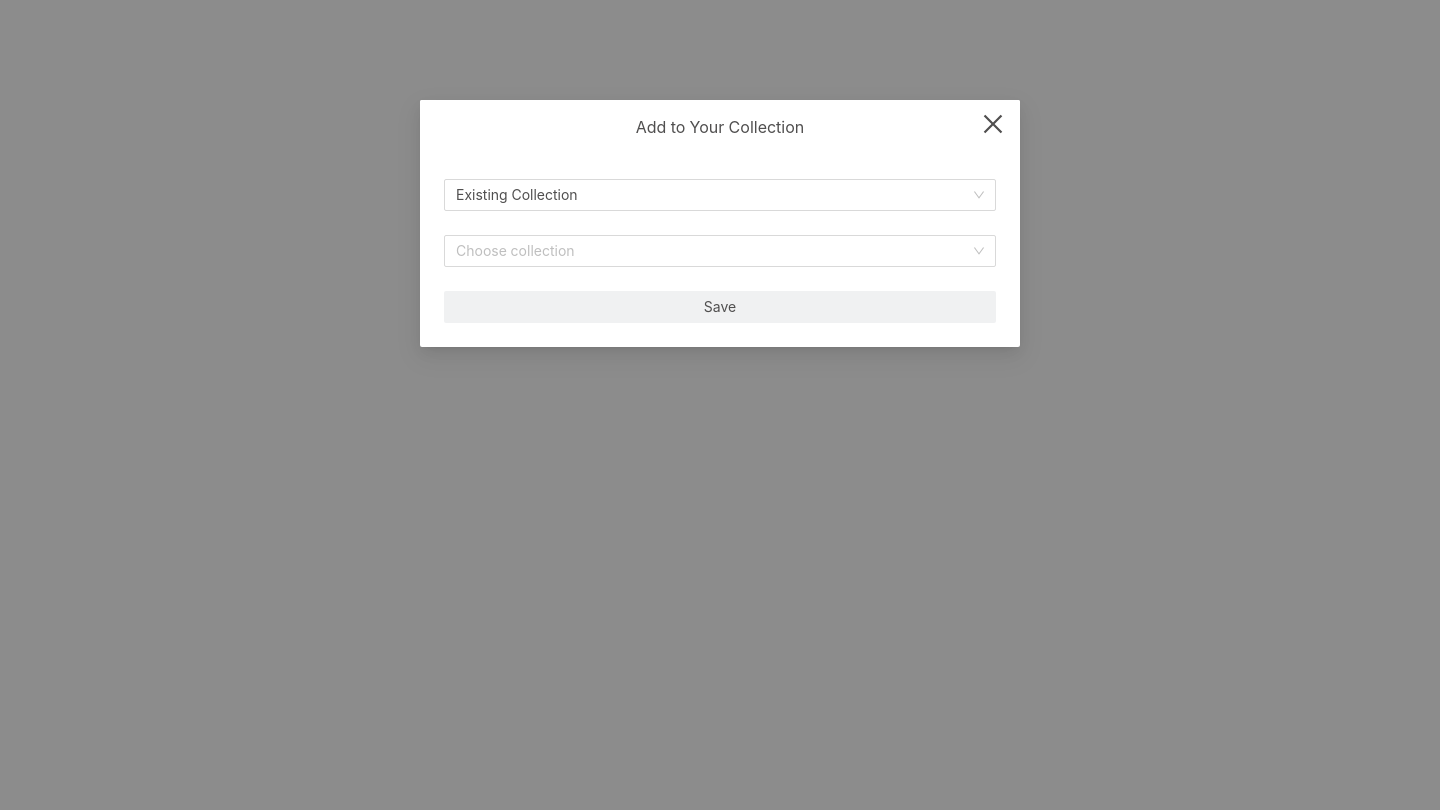
Scenario: ModalAddAnime › should be able to save after typing new collection
Press the mouse on the dropdown labelled "Existing Collection" at (720, 195), box [444, 179, 996, 211]
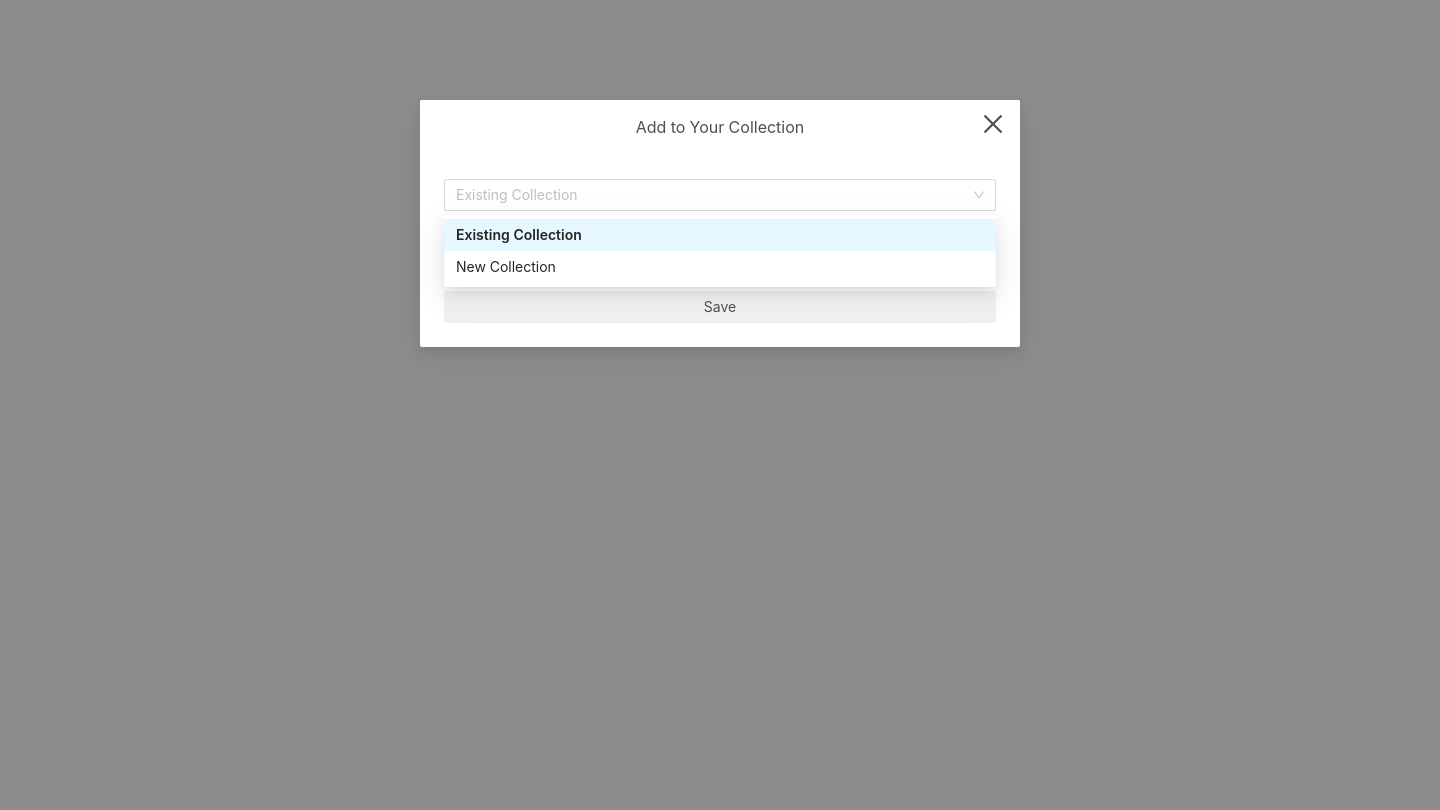
Check: the text "New Collection" is shown
Click the text "New Collection" at (506, 266), box [456, 258, 556, 275]
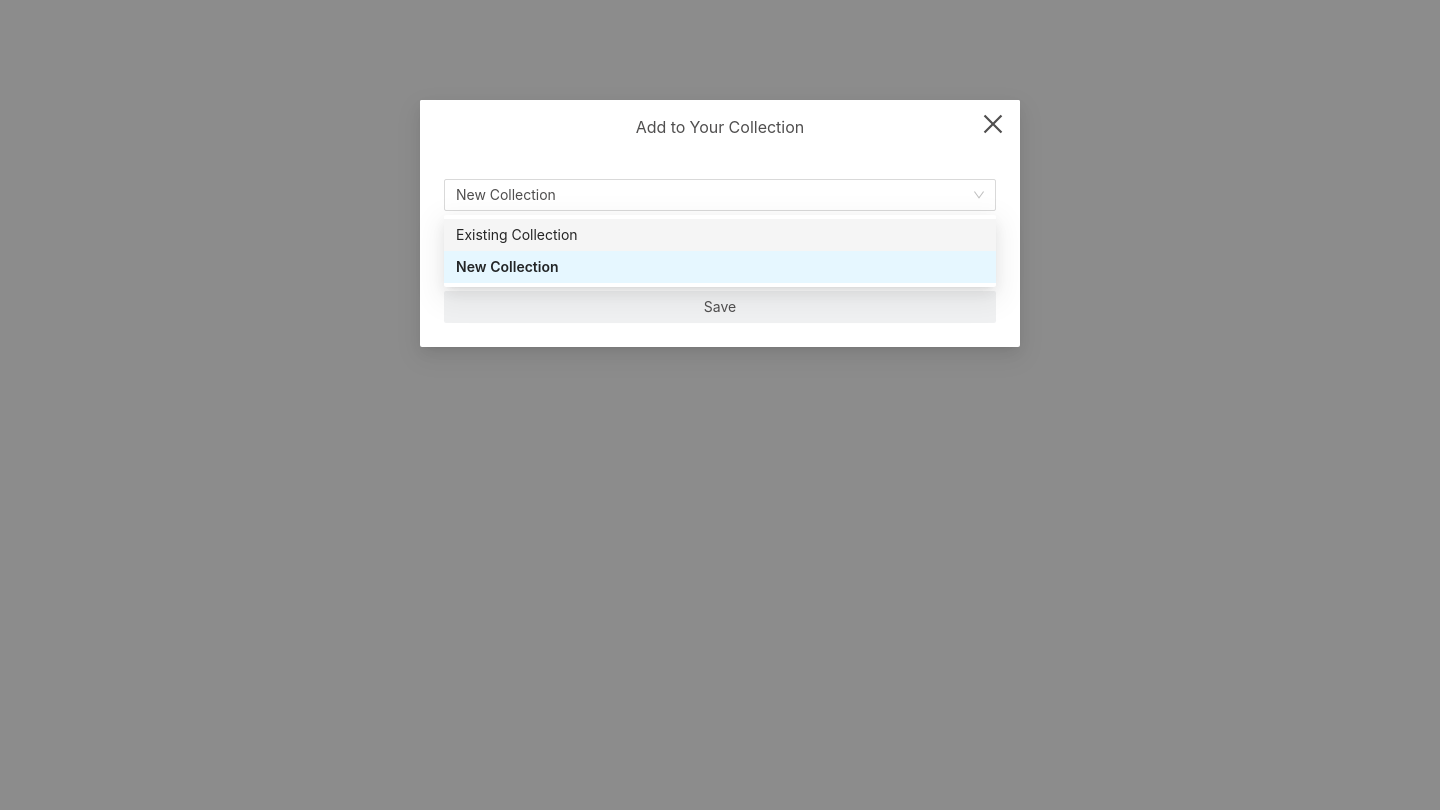
Check: the field with placeholder "Type collection name" is shown
Type "MyDifferentCollection" into the field with placeholder "Type collection name" at (720, 251), box [444, 235, 996, 267]
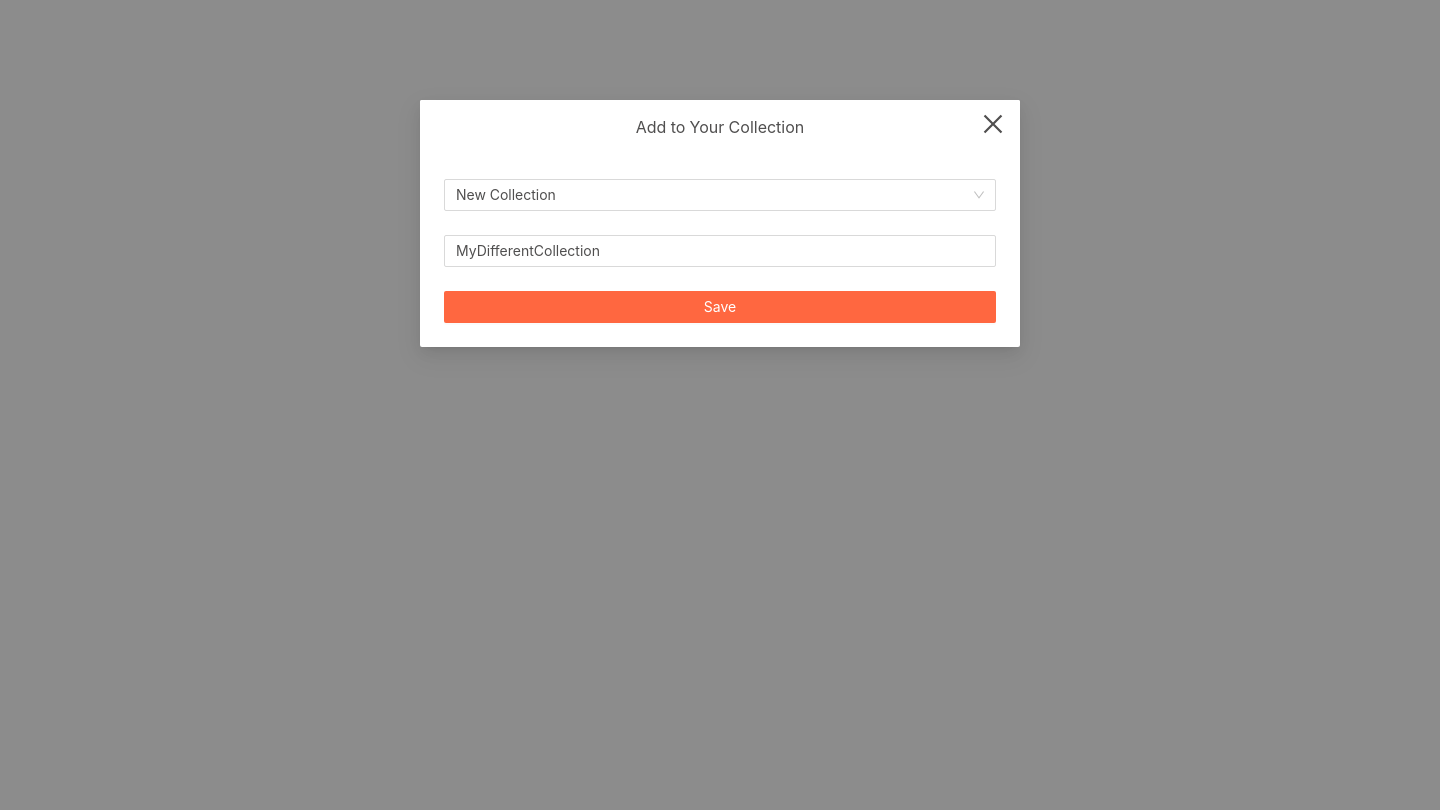
Check: the button "Save" is enabled, box [444, 291, 996, 323]
